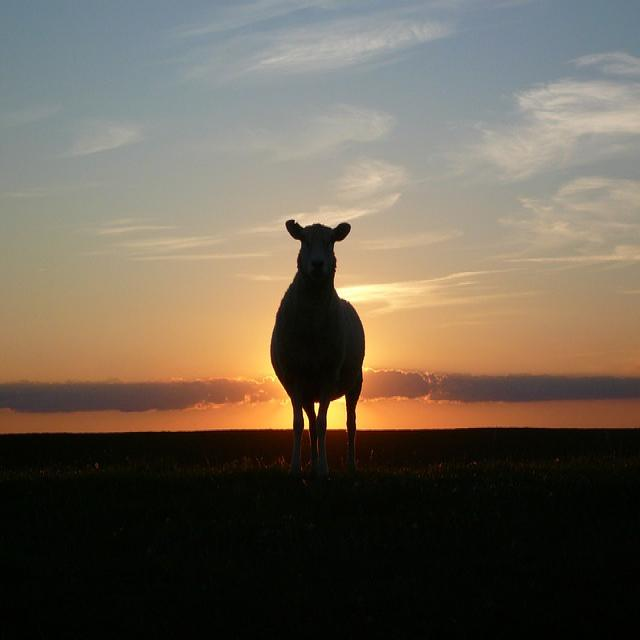goat: (269, 221, 366, 479)
